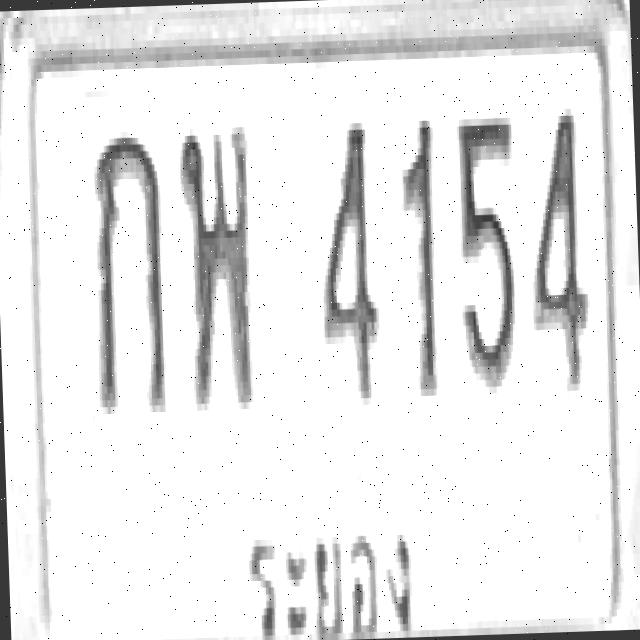1: (398, 113, 442, 396)
10GorGai: (88, 130, 166, 413)
39PhorPan: (176, 120, 256, 410)
4: (314, 115, 382, 399), (524, 100, 589, 392)
5: (454, 110, 521, 387)
Rayong: (233, 485, 421, 640)
